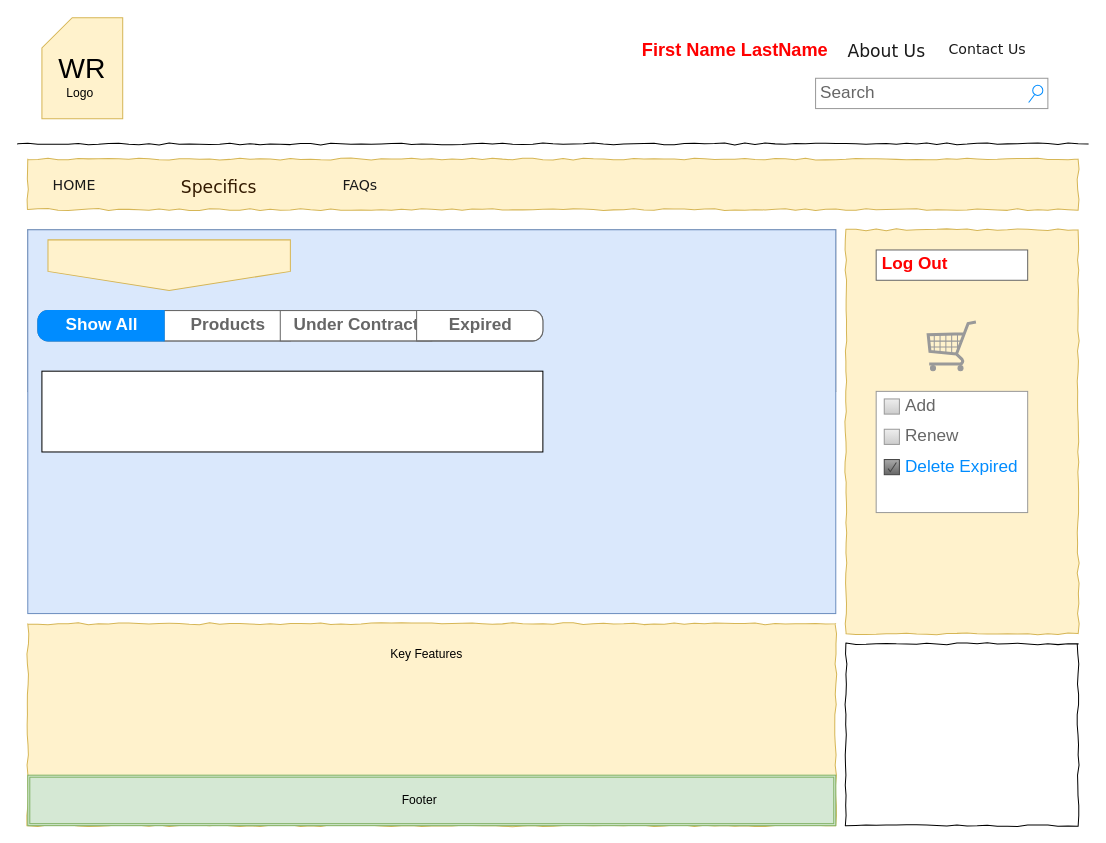
The diagram is 1106 pixels wide and 843 high, and some of its shapes have lost their labels. Here are the shapes that lost their labels. From the top down, the box of each, then its label:
(47, 239, 290, 290): Your products
(41, 370, 543, 452): Product Name Expiry Date Apple Computer 09/21/2021 Dining Table 10/23/2020
(845, 643, 1078, 826): Ads / External Links
